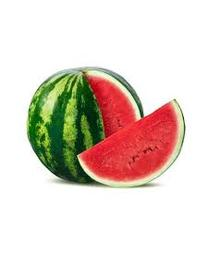watermelon: (27, 66, 144, 187), (78, 99, 186, 187)
